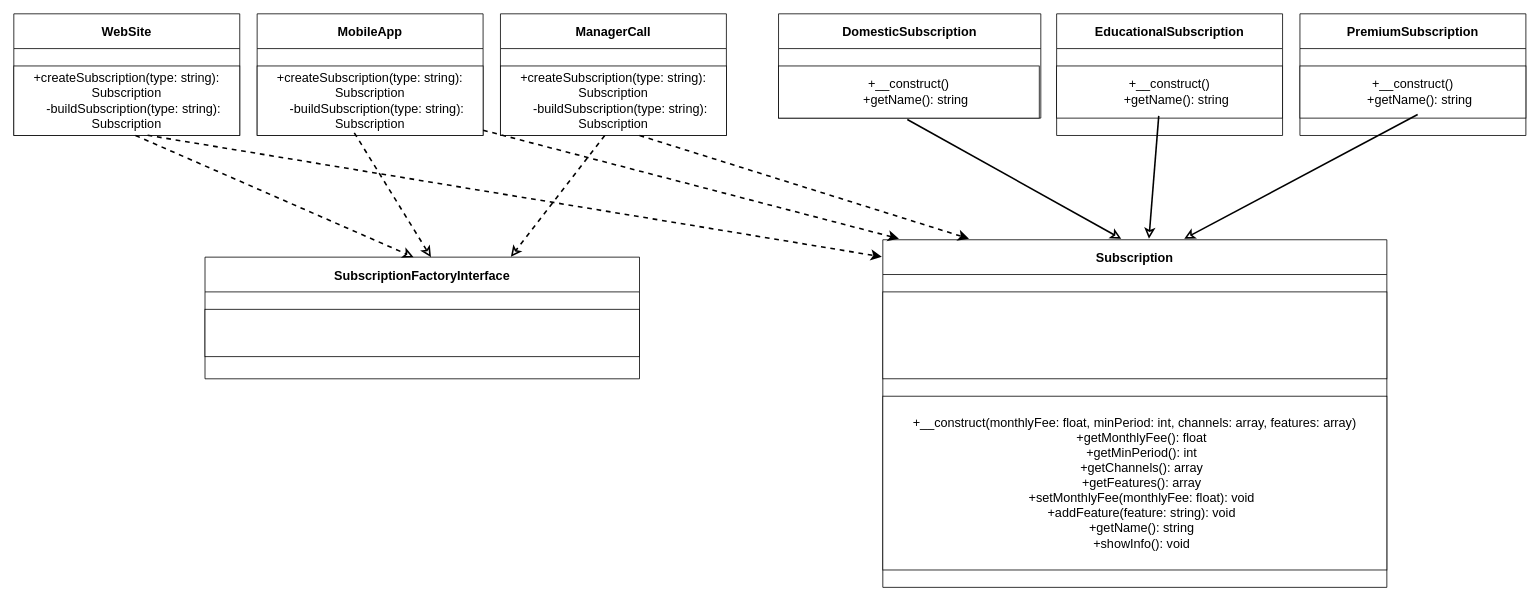
This 1540x601 diagram has some shape labels left out. Here are the shapes that lost their labels. From the top down, the centre of each, then its label:
At [422,332]: "+createSubscription(type: string): Subscription".
At [1134,335]: "monthlyFee: float minPeriod: int channels: array features: array".
